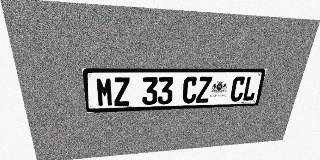3: (142, 77, 158, 105), (157, 77, 173, 104)
C: (229, 76, 246, 102), (182, 77, 198, 104)
L: (242, 76, 259, 101)
M: (95, 77, 114, 107)
Z: (113, 77, 130, 106), (196, 77, 212, 103)
